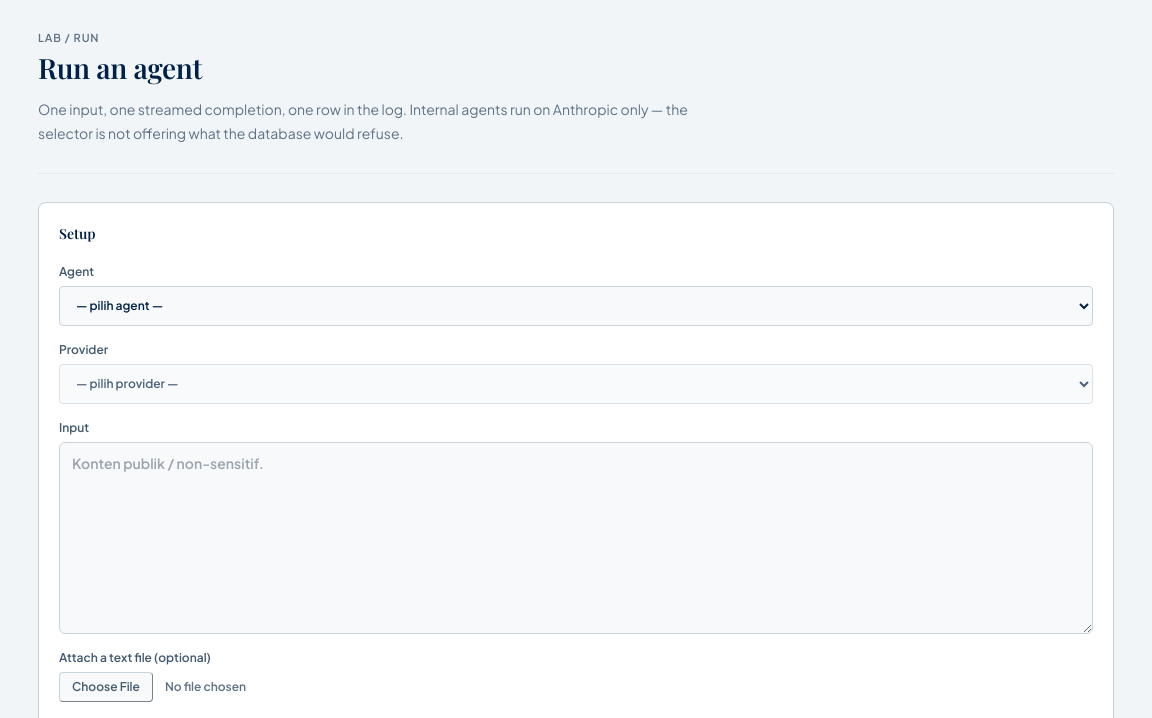
§2 the run screen provider selector › locks an internal agent to Anthropic and says why, visibly
Select "Senior Finance Analyst (internal)" in the dropdown labelled "Agent". click: (576, 306)
box: [59,286,1093,326]
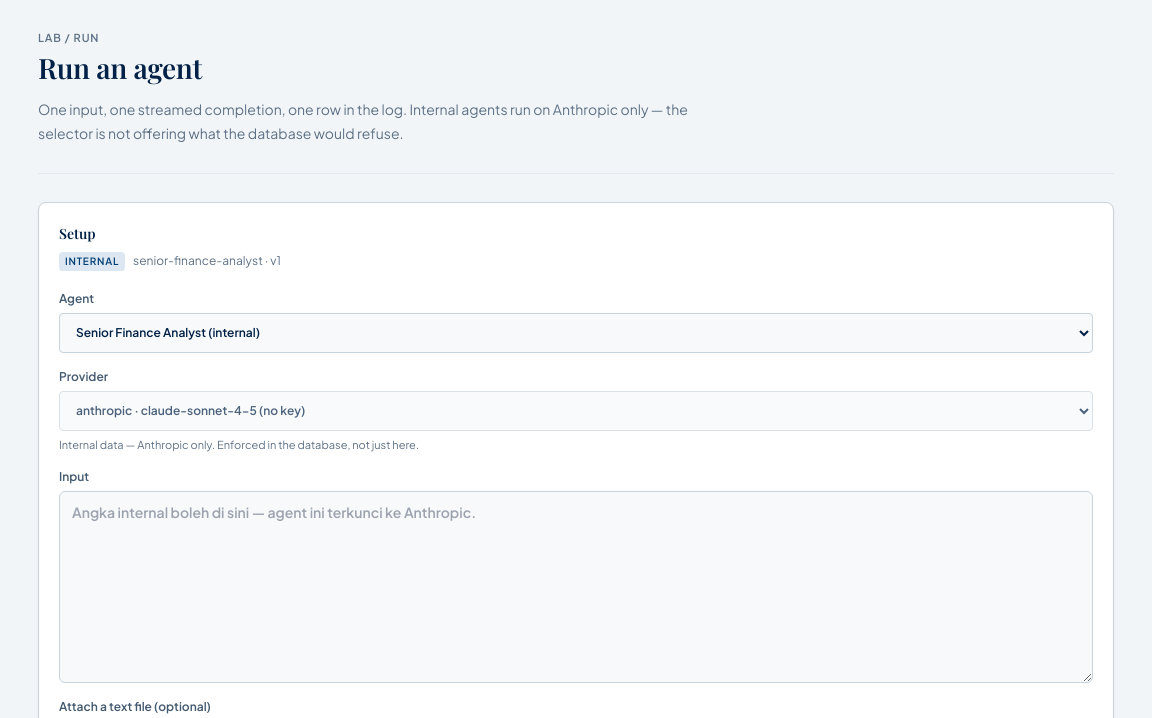
Check: the dropdown labelled "Provider" is disabled, box [59,391,1093,431]
Check: the text "Internal data — Anthropic only" is shown, box [59,438,419,451]
